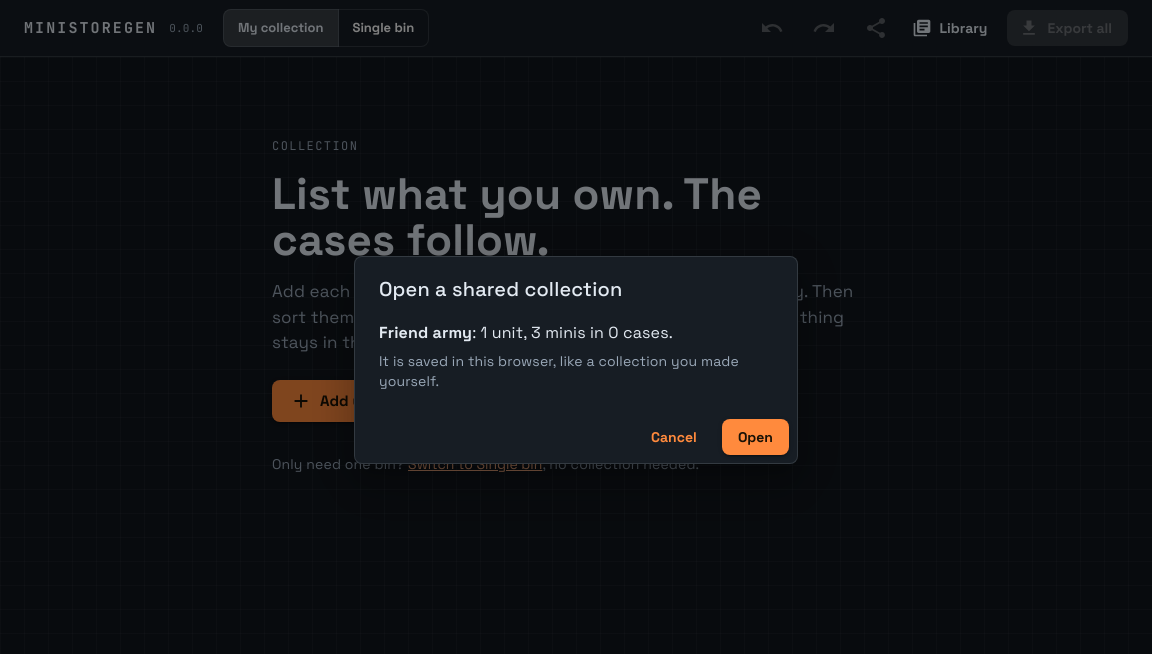
Scenario: a shared collection opens only after asking, and can be added to your own
The image size is (1152, 654).
Earlier steps of the test are not shown.
Later steps or results of the test are not shown.
Click the button "Open" at (755, 437), box [722,419,789,455]
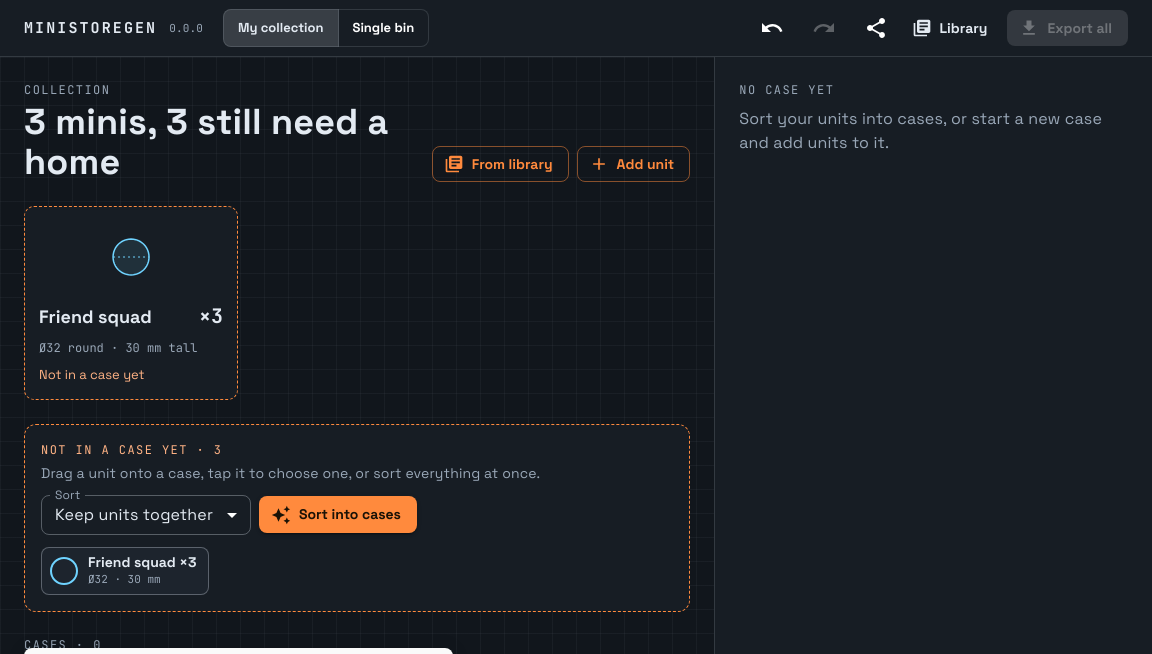
expect the heading with test id "collection-summary" reads "3 minis, 3 still need a home": met, box [24,99,388,185]
